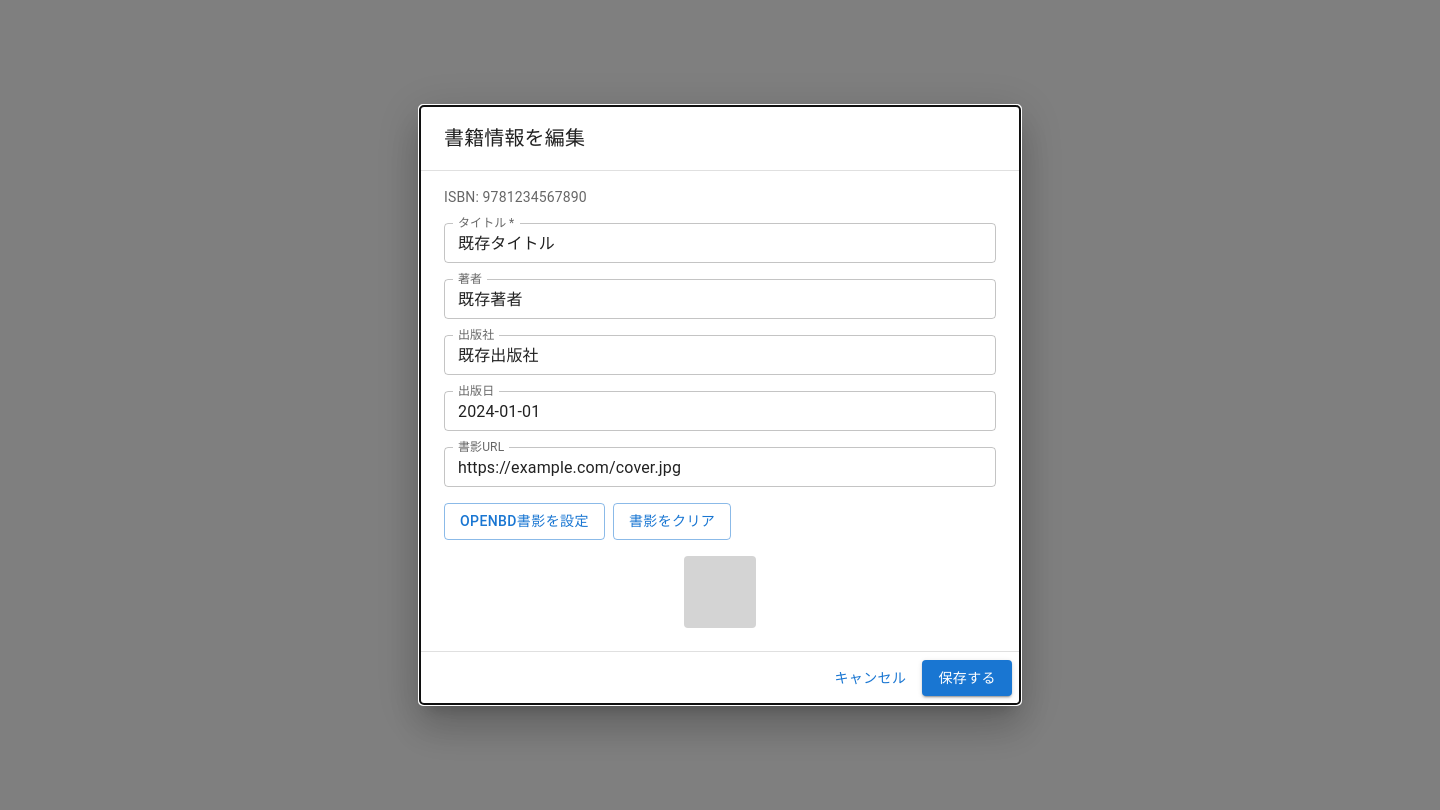
Scenario: BookEditDialog › fetches openBD cover when button clicked
This screenshot has width=1440, height=810.
Click the button with test id "book-edit-fetch-cover-button".
click(524, 521)  # box [444,503,605,540]
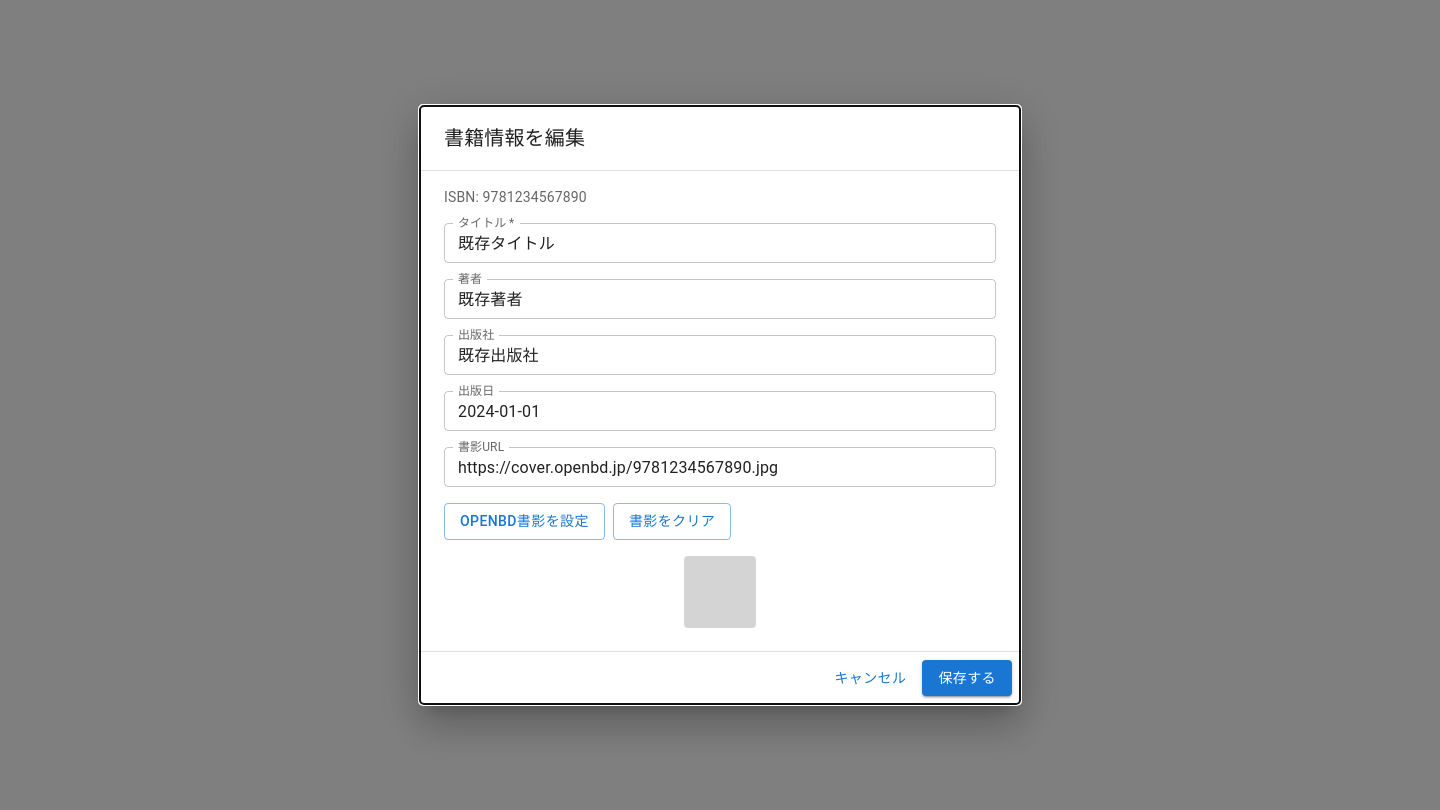
Expected: the field with test id "book-edit-cover-url-input" holds "https://cover.openbd.jp/9781234567890.jpg", [444,447,996,487]
